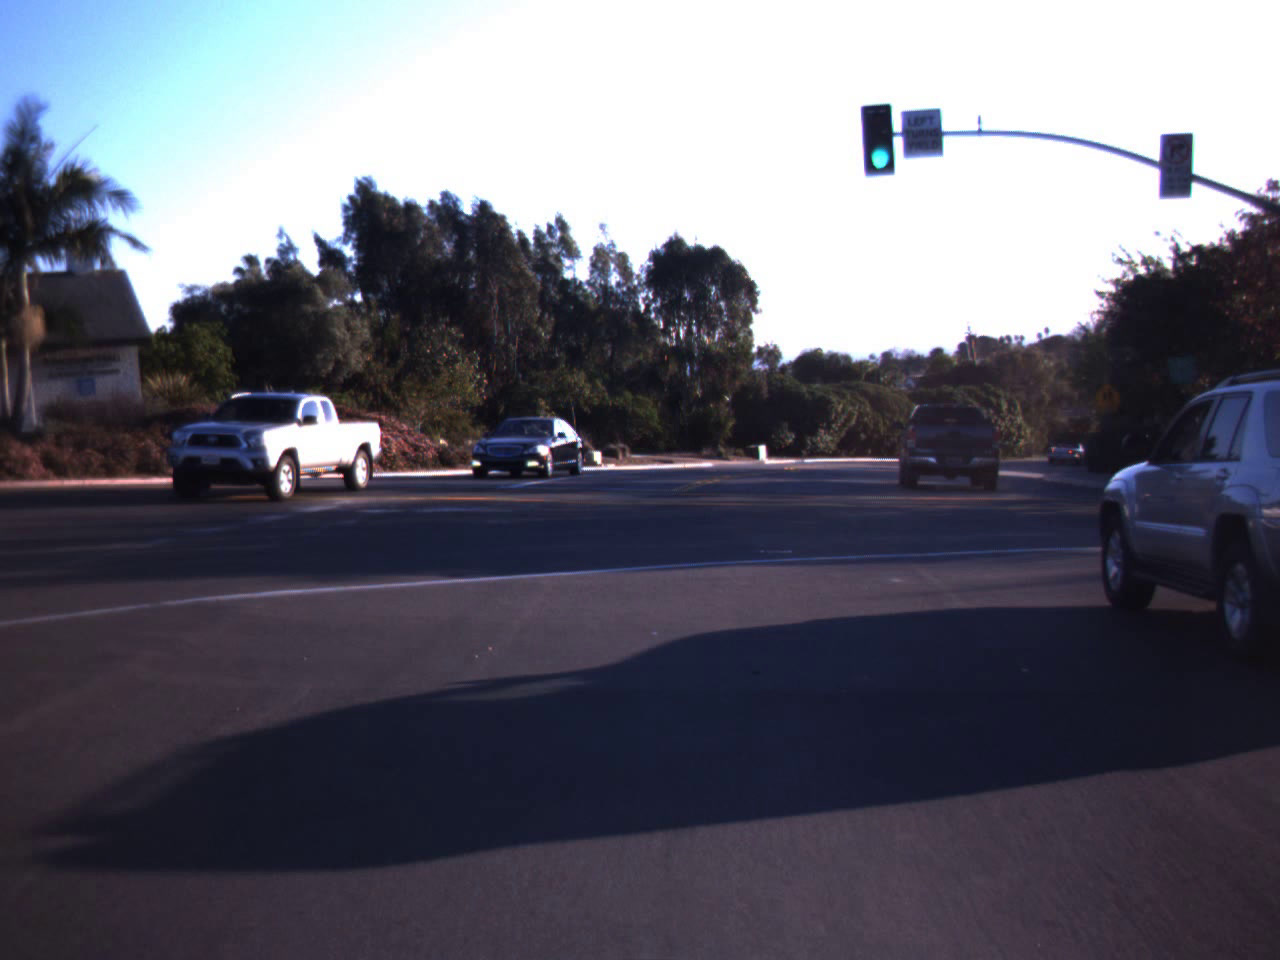go: (856, 87, 904, 177)
